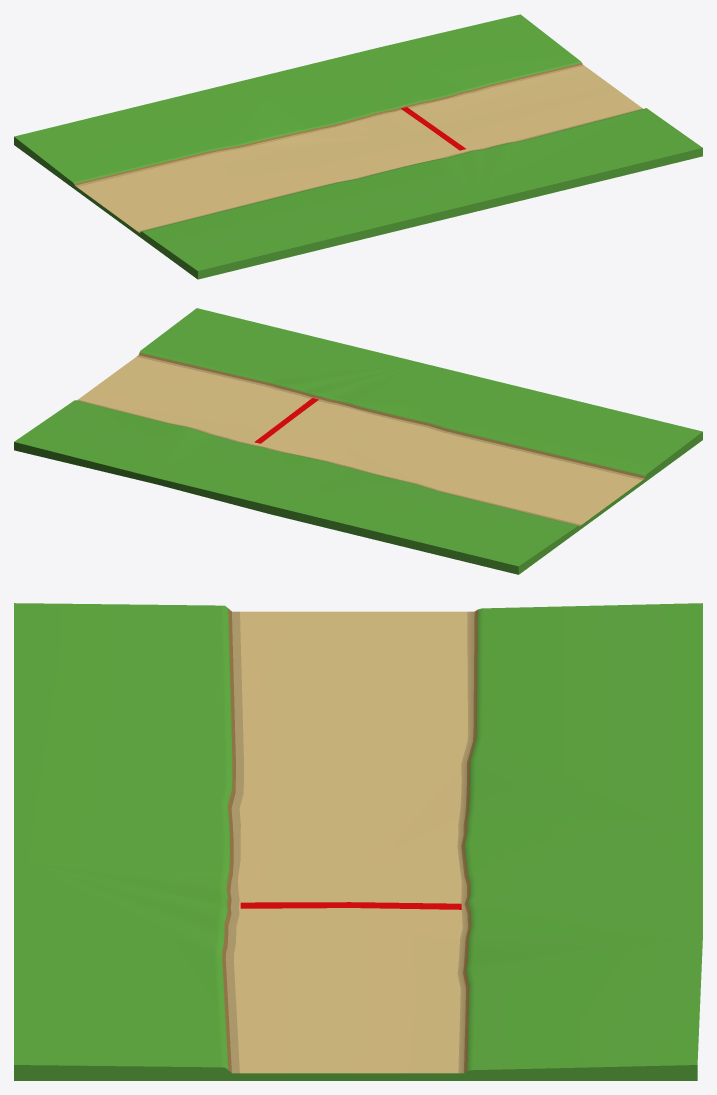
The model's file is Path4.fbx.
The picture shows the model from 3 angles, top to bottom: view 1: azimuth 30°, elevation 25°; view 2: azimuth 150°, elevation 25°; view 3: azimuth 270°, elevation 25°; orthographic projection. The views are drawn at different scales.
Visible parts, largest first — view 1: Cube.001; view 2: Cube.001, Cube.002; view 3: Cube.001, Cube.002.
Boxes of the visible parts, x1,y1,x2,y2 form: Cube.001: [14, 14, 702, 279]; Cube.001: [14, 308, 702, 574]; Cube.002: [254, 398, 318, 443]; Cube.001: [14, 603, 702, 1080]; Cube.002: [240, 902, 461, 909].
Bounding box in the file's own units: 16330 × 262 × 10295.
